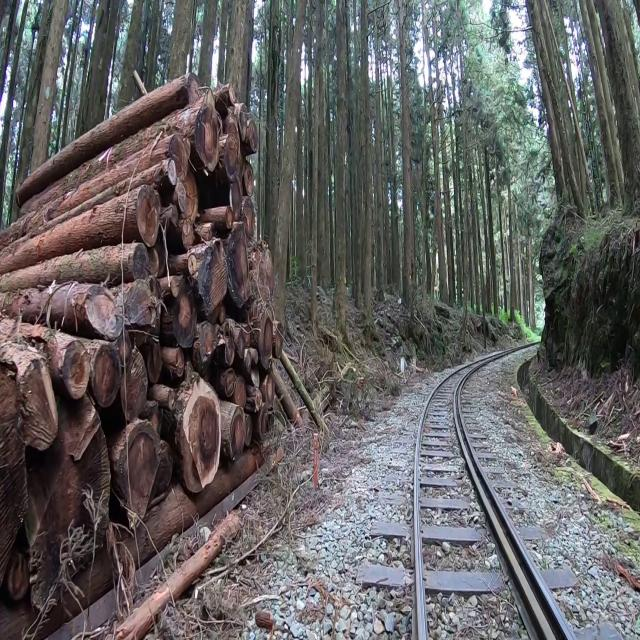rail-track: (418, 371, 546, 639), (457, 409, 570, 639)
